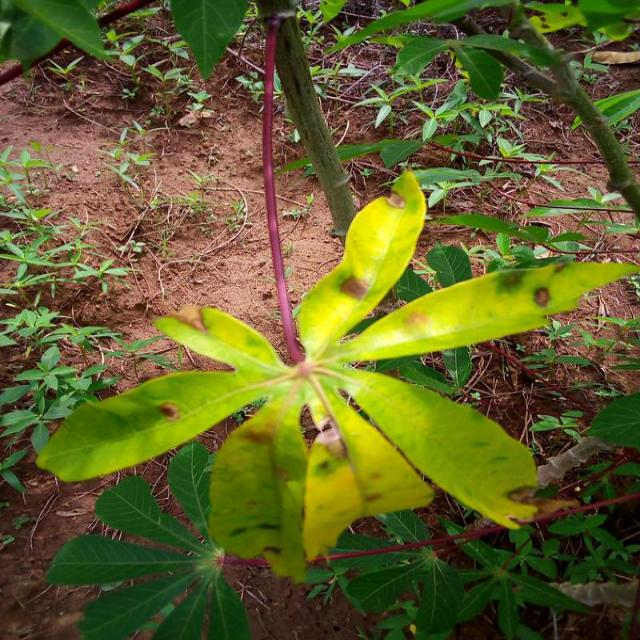cassava leaf: (33, 168, 638, 584)
